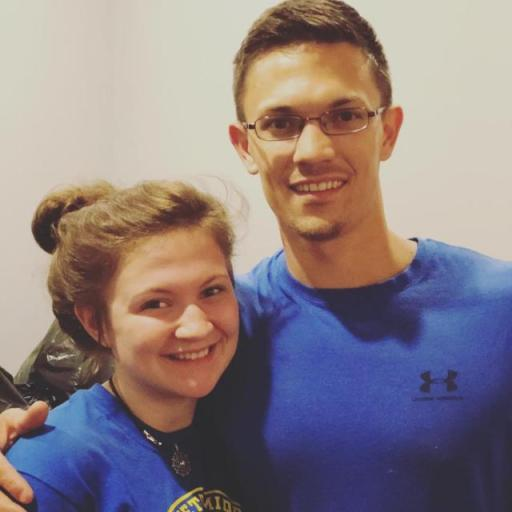Under Armour: (413, 366, 463, 400)
